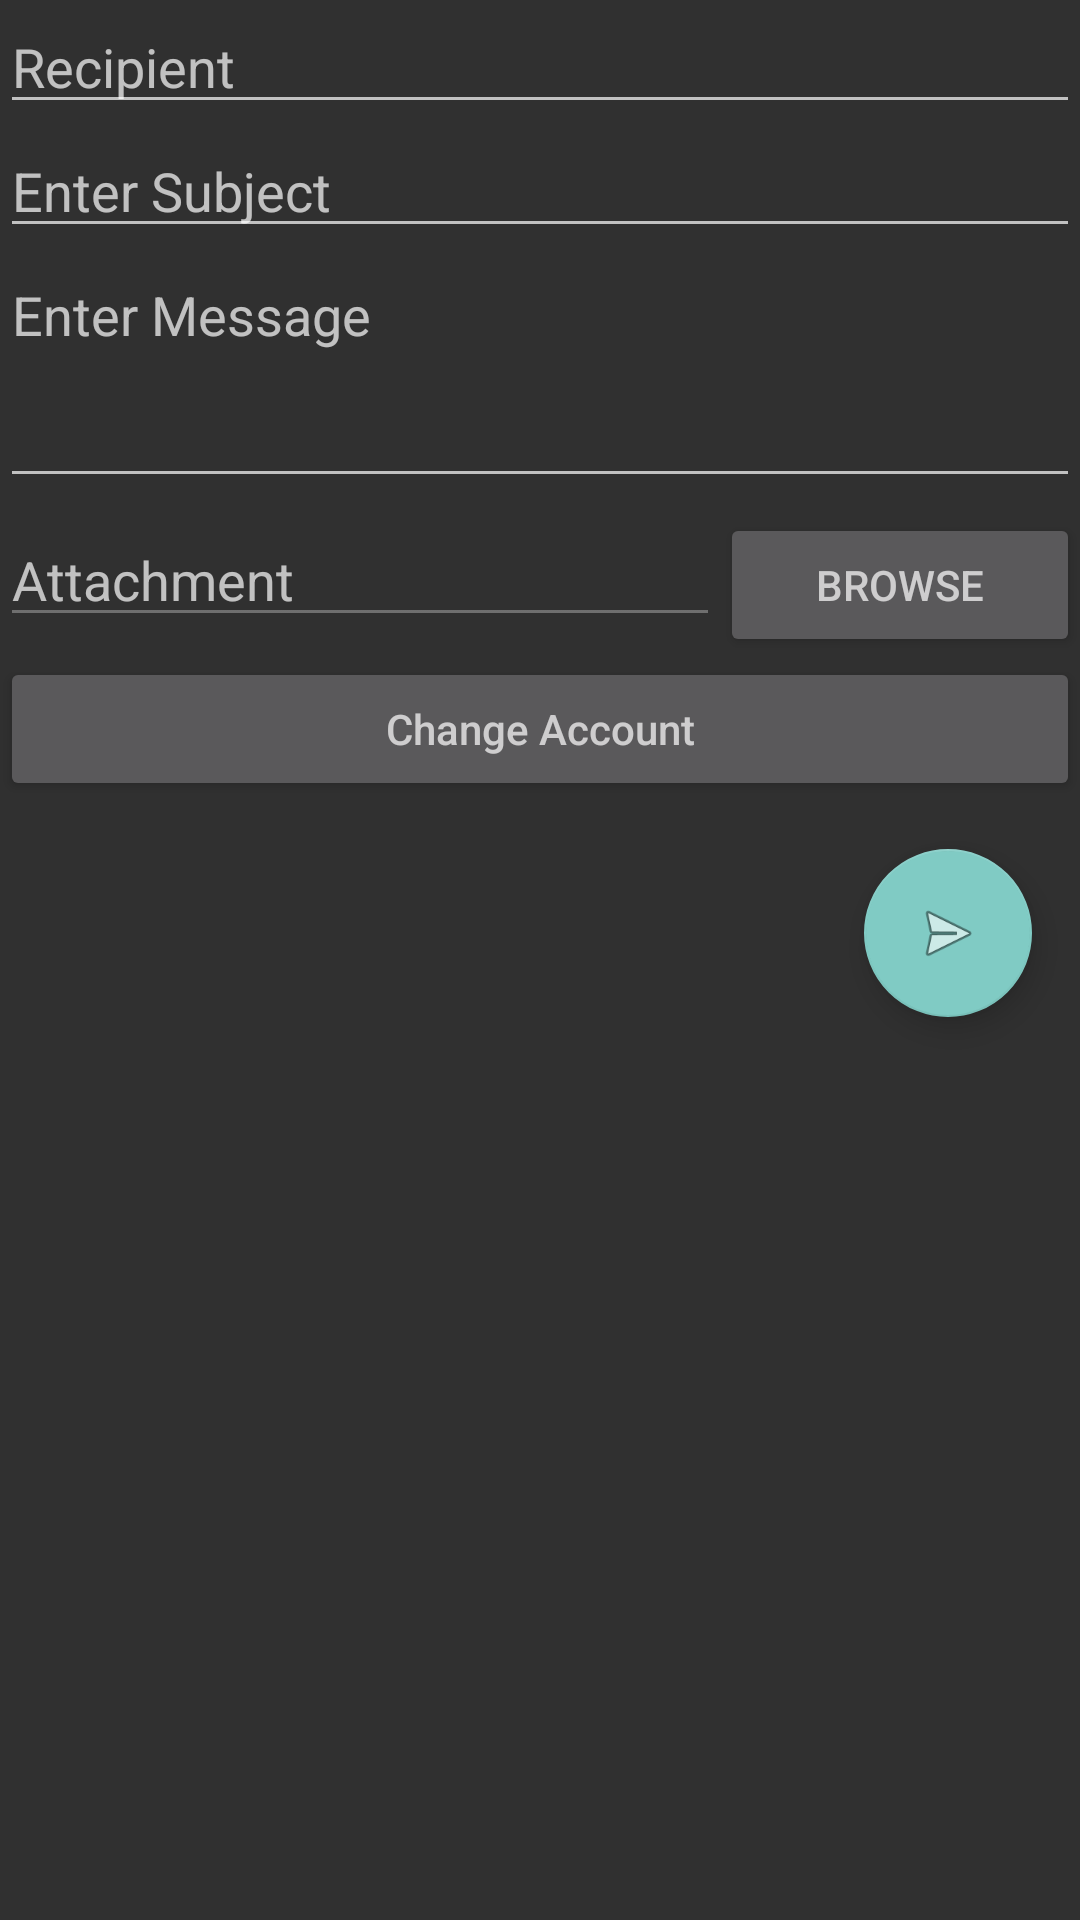

Point at icon controls on the screen. Image size 1080 x 1920, points as (x=x, y=y).
send: (x=948, y=933)
